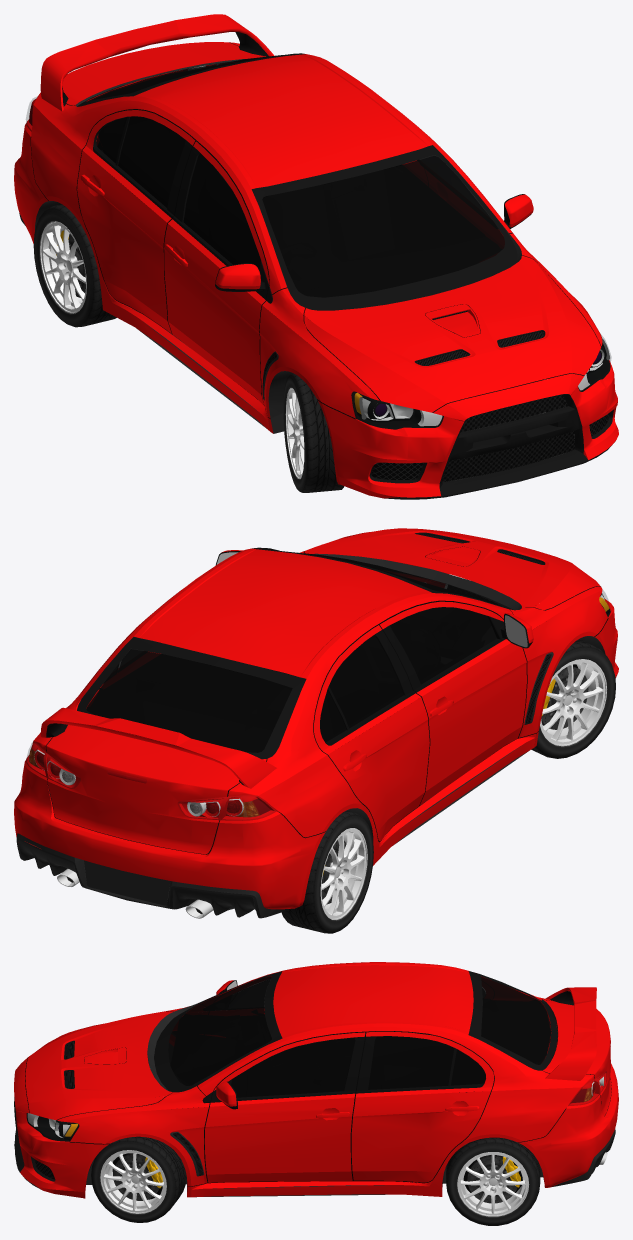
3 views of the same model, one above another, from view 1: azimuth 30°, elevation 25°; view 2: azimuth 150°, elevation 25°; view 3: azimuth 270°, elevation 25° (orthographic). The views are drawn at different scales.
Visible parts, largest first — view 1: object.000_CarPaint_0, object.009_Material.001_0, object.001_Windowsblack_0, object.012_Material.006_0, wheel.002, object.004_grill_0, object.013_glack_0, wheel.001, object.011_Black_0, object.010_Material.003_0, object.002_refl_0; view 2: object.000_CarPaint_0, object.009_Material.001_0, object.011_Black_0, wheel.002, wheel.001, object.001_Windowsblack_0, object.013_glack_0, object.016_red_0, object.010_Material.003_0, object.006_Material.010_0, object.004_grill_0, object.007_90' brush_0 (+1 smaller); view 3: object.000_CarPaint_0, object.009_Material.001_0, wheel.003, wheel, object.001_Windowsblack_0, object.013_glack_0, object.011_Black_0, object.010_Material.003_0, object.004_grill_0, object.012_Material.006_0, object.016_red_0.
Boxes of the visible parts, x1,y1,x2,y2 form: object.000_CarPaint_0: (14,14,618,498); object.009_Material.001_0: (87,54,504,297); object.001_Windowsblack_0: (77,53,517,310); object.012_Material.006_0: (369,330,613,495); wheel.002: (33,204,116,327); object.004_grill_0: (262,310,609,481); object.013_glack_0: (62,32,610,429); wheel.001: (283,373,344,492); object.011_Black_0: (19,59,611,499); object.010_Material.003_0: (30,42,601,419); object.002_refl_0: (390,370,589,426); object.000_CarPaint_0: (14,528,618,909); object.009_Material.001_0: (86,548,500,752); object.011_Black_0: (16,553,605,918); wheel.002: (281,810,373,933); wheel.001: (531,639,615,758); object.001_Windowsblack_0: (77,547,513,759); object.013_glack_0: (46,551,610,785); object.016_red_0: (26,741,276,820); object.010_Material.003_0: (45,536,608,854); object.006_Material.010_0: (29,747,259,817); object.004_grill_0: (418,534,602,723); object.007_90' brush_0: (57,868,213,918); object.000_CarPaint_0: (14,962,618,1198); object.009_Material.001_0: (168,976,550,1097); wheel.003: (446,1137,540,1225); wheel: (91,1136,186,1222); object.001_Windowsblack_0: (154,971,557,1092); object.013_glack_0: (26,980,573,1141); object.011_Black_0: (15,998,615,1197); object.010_Material.003_0: (25,977,611,1186); object.004_grill_0: (34,1042,203,1179); object.012_Material.006_0: (14,1040,74,1181); object.016_red_0: (568,1071,606,1106).
Bounding box in the file's own units: 205 × 151 × 449.
Materials: 26 (4 with a texture image).
